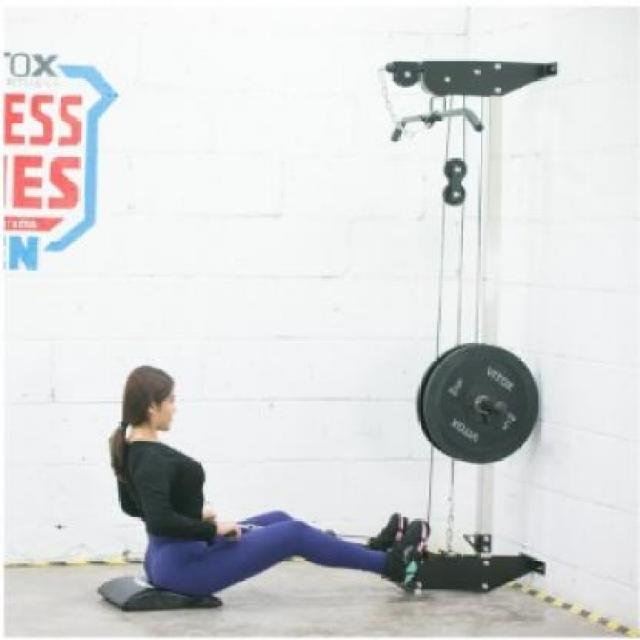Seated Cable Rows: (75, 32, 577, 620)
